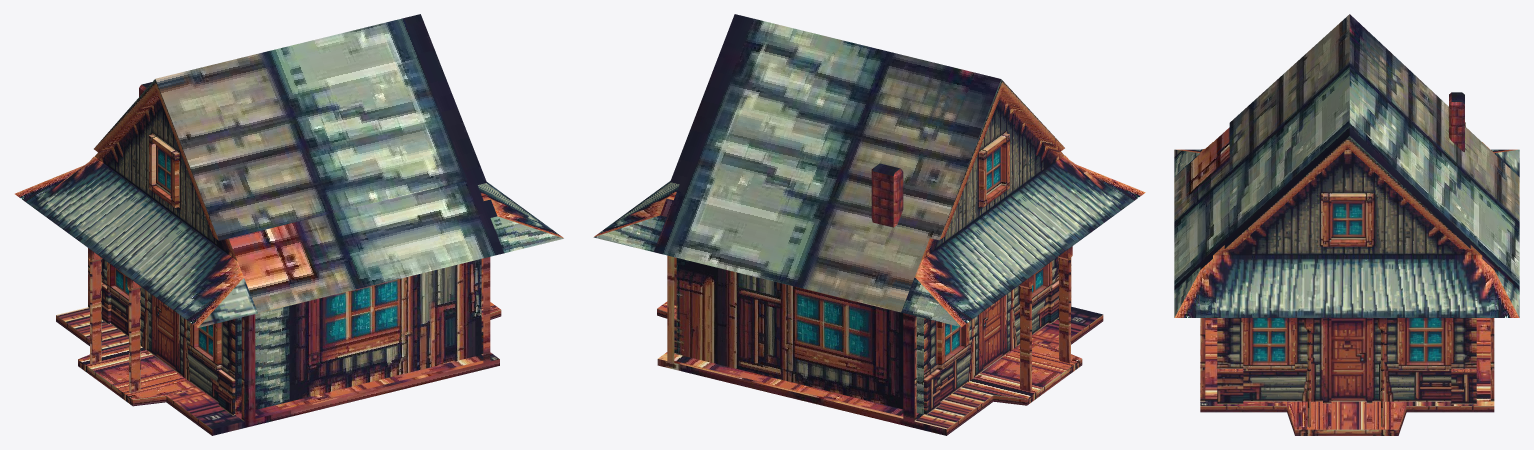
Rendered from House2.glb.
The picture shows the model from 3 angles, left to right: view 1: azimuth 30°, elevation 25°; view 2: azimuth 150°, elevation 25°; view 3: azimuth 270°, elevation 25°; orthographic projection. The views are drawn at different scales.
Parts seen in each view (by area): view 1: OIG1 (23), OIG1 (23).002, OIG1 (23).001; view 2: OIG1 (23), OIG1 (23).005, OIG1 (23).002, OIG1 (23).001; view 3: OIG1 (23), OIG1 (23).005, OIG1 (23).004, OIG1 (23).003.
Boxes of the visible parts, x1,y1,x2,y2 form: OIG1 (23): (15,14,563,435); OIG1 (23).002: (88,248,102,364); OIG1 (23).001: (127,277,141,392); OIG1 (23): (593,14,1145,435); OIG1 (23).005: (871,163,903,227); OIG1 (23).002: (1019,275,1033,391); OIG1 (23).001: (1058,246,1072,363); OIG1 (23): (1174,14,1519,435); OIG1 (23).005: (1449,92,1464,152); OIG1 (23).004: (1377,318,1386,427); OIG1 (23).003: (1304,318,1313,427).
Bounding box in the file's own units: 0.9844 × 0.75 × 0.8488.
Materials: 1 (1 with a texture image).
